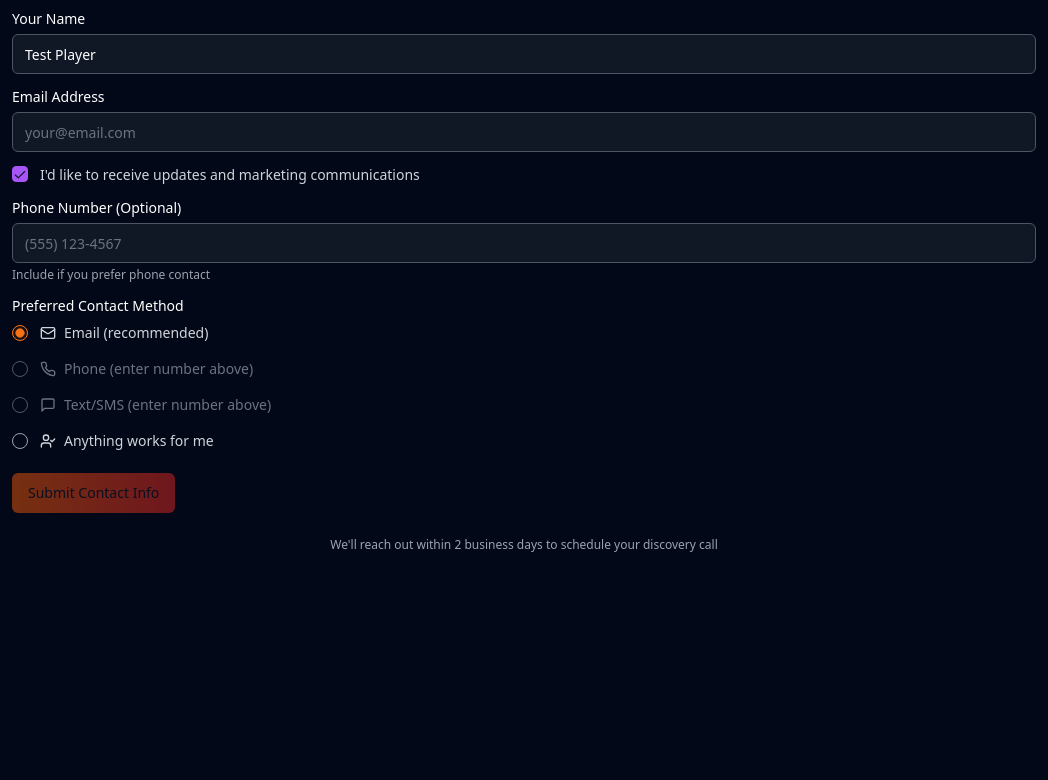
Test case: Adventure Game Forms › Ignition Path Forms › IgnitionWaitlistForm › handles submission errors gracefully
Step 1. Type "john@example.com" into the field labelled "Email Address" → (524, 132), box top-left (12, 112), bottom-right (1036, 152)
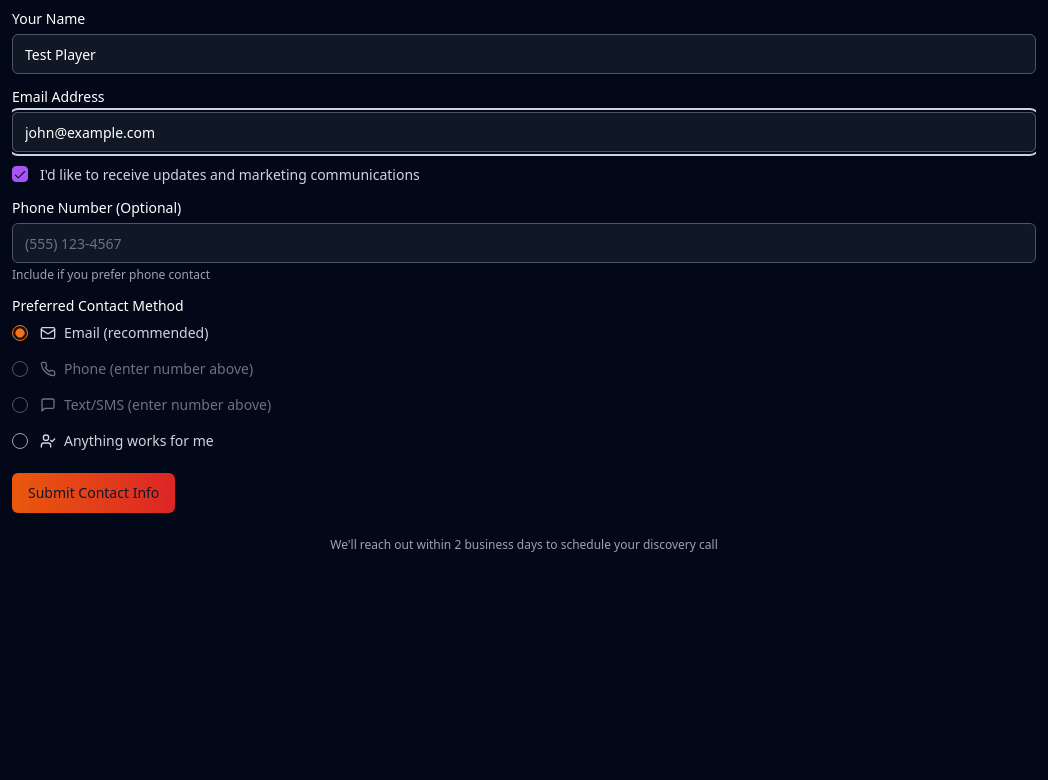
Step 2. Click the button "Submit Contact Info" → (94, 493), box top-left (12, 473), bottom-right (175, 513)
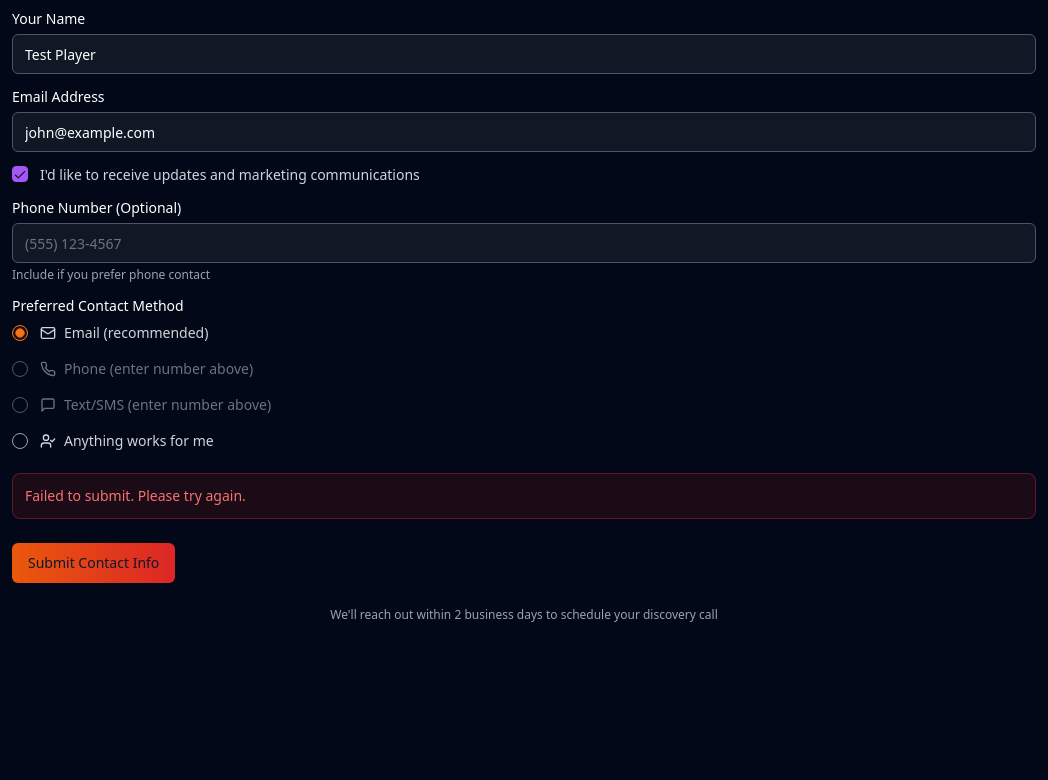
Result: the text "Failed to submit. Please try again." is shown at top-left (12, 473), bottom-right (1036, 519)
